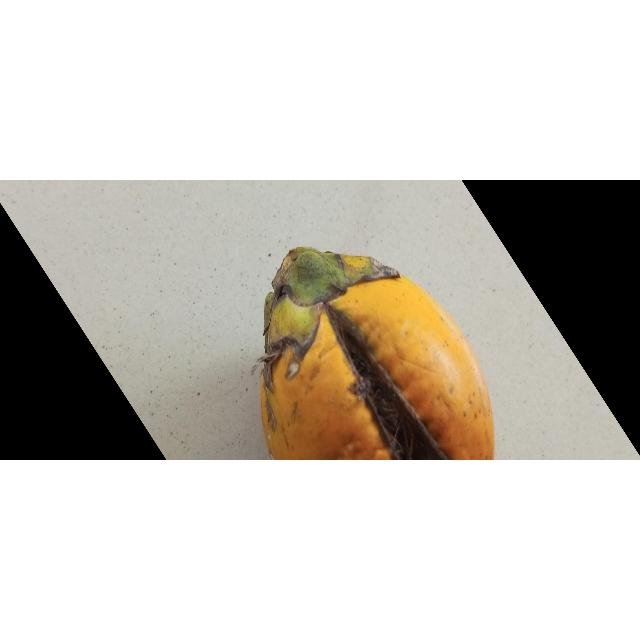damaged: (252, 247, 494, 461)
